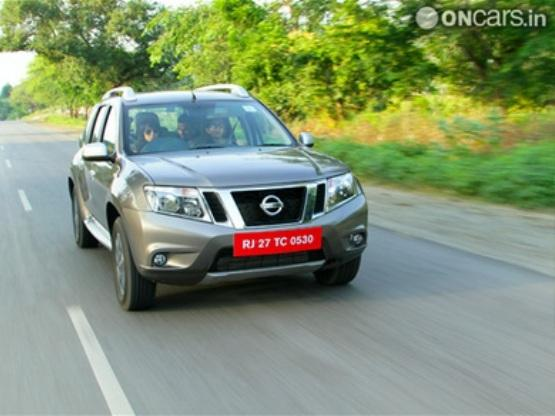licence-plate: (232, 229, 324, 255)
